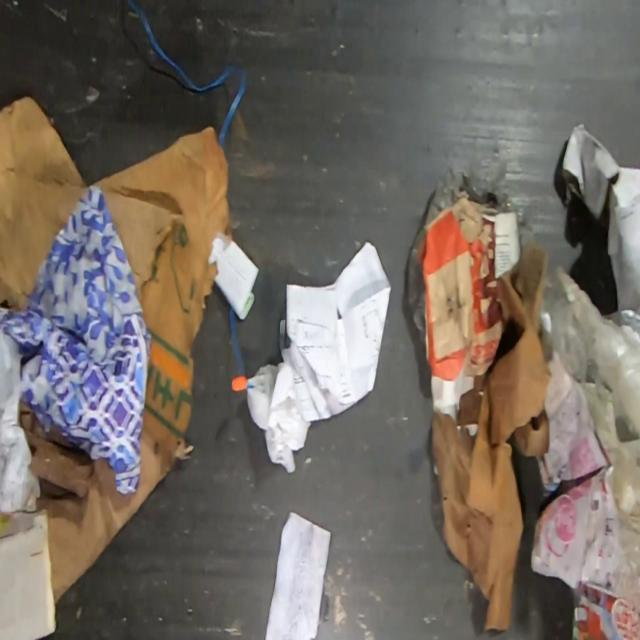cardboard: (0, 92, 232, 606), (429, 243, 550, 633), (416, 191, 504, 381)
soft_plastic: (540, 270, 640, 640), (406, 157, 540, 353)
